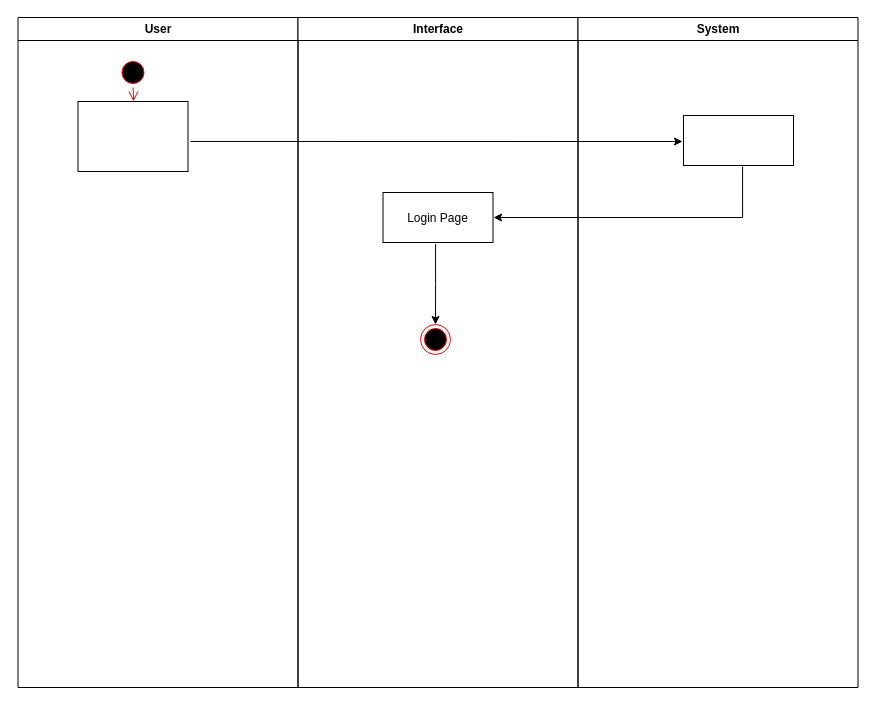
Image size: 875x705. Some labels were removed from this diagram. The shapes that lost their labels are listed below. From the top down, each one's centre as x and y in pixels, then its label:
At point 132,136: "User Menekan Tombol Keluar".
At point 738,140: "Set Kasir Object as null".
